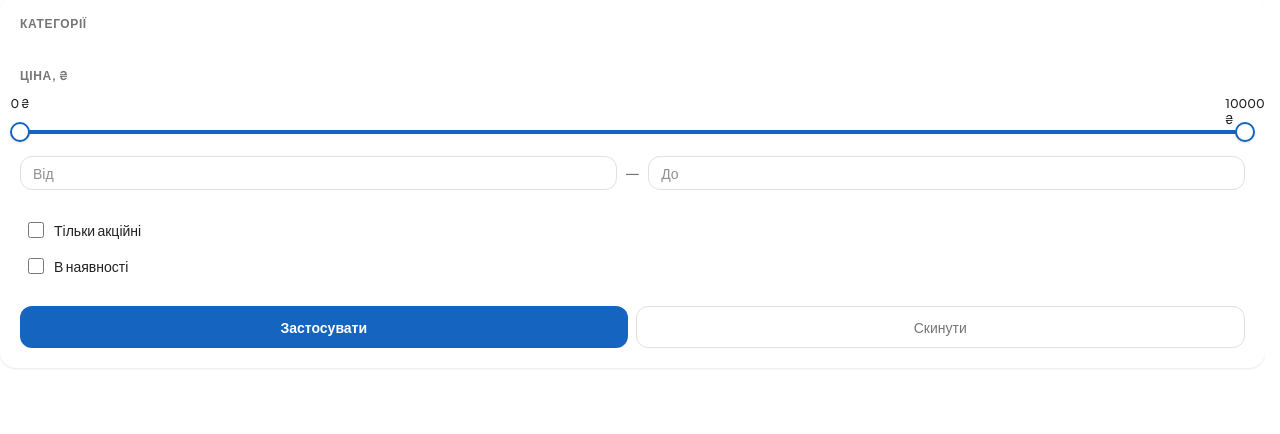
Test: FilterSidebar › clamps min input to not exceed max via slider keyboard
// Set min to something higher than default max (10000) - it should be clamped
In the number field with placeholder "Від": (318,173) [20,156,617,190], type "15000"
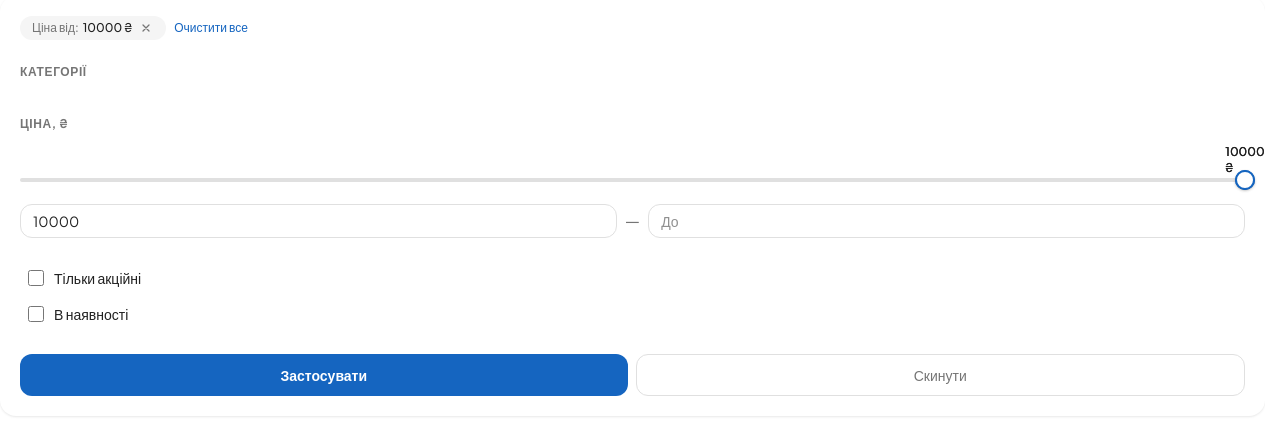
Check: the number field named "Мінімальна ціна" holds "10000", box [20,204,617,238]
